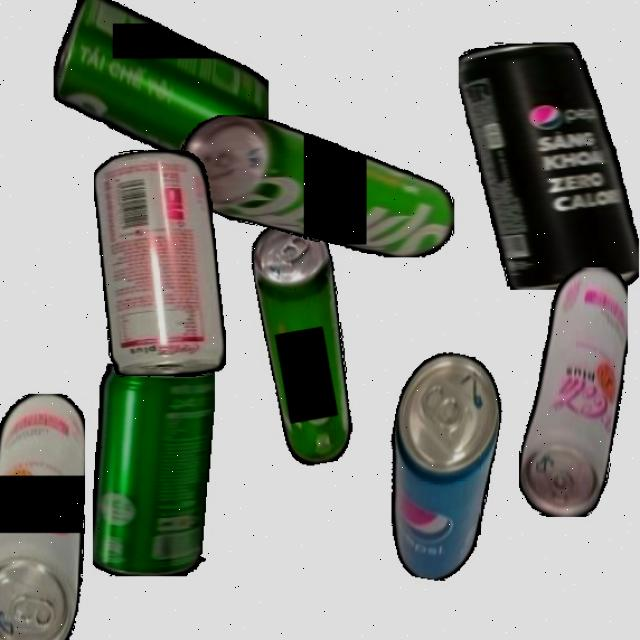debris: (459, 41, 639, 290), (182, 114, 454, 257), (52, 0, 268, 180), (369, 346, 510, 586), (246, 214, 366, 469), (94, 149, 226, 377), (518, 266, 628, 517), (93, 363, 215, 576), (0, 392, 85, 640)
